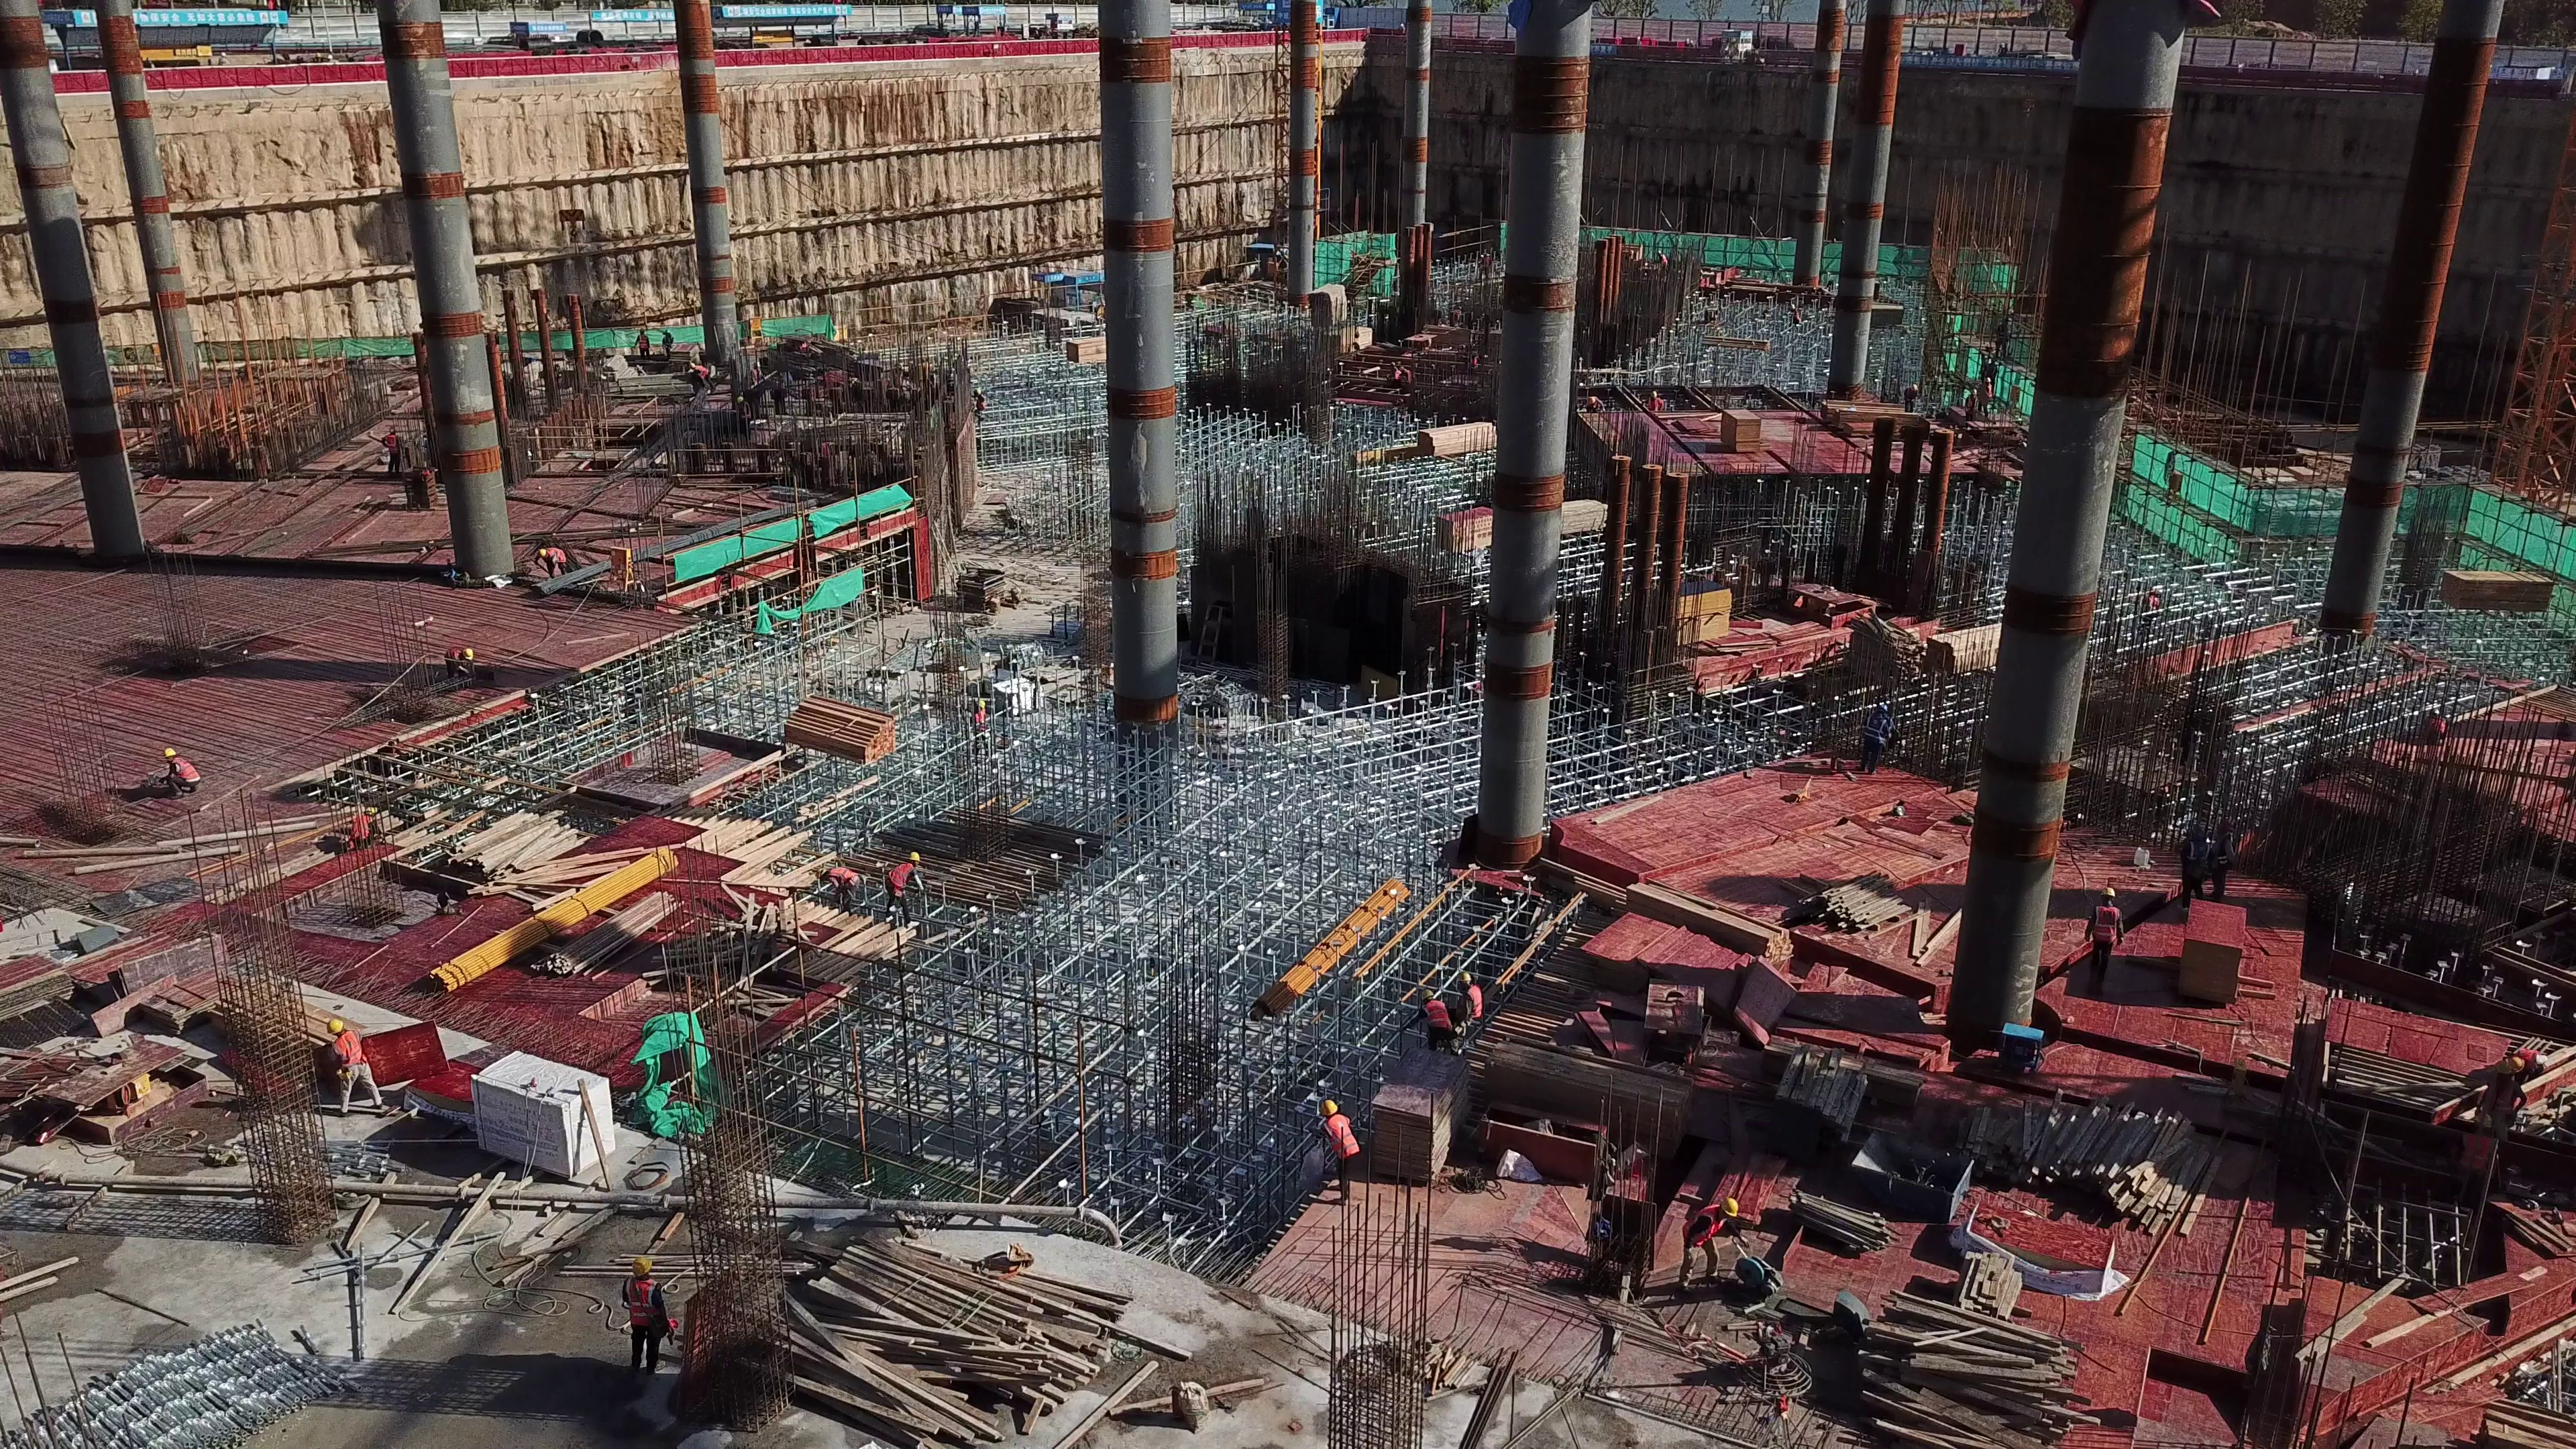board: (1507, 1039, 1682, 1138), (1593, 917, 1731, 1018), (1372, 1063, 1474, 1178), (82, 947, 225, 1019), (2177, 898, 2251, 1008), (1, 951, 78, 1017), (1436, 504, 1497, 556), (1723, 408, 1766, 451)
cutter: (1727, 1247, 1784, 1299)
ebox: (1995, 1022, 2049, 1075), (606, 543, 639, 593)
fence: (1902, 24, 2576, 97), (38, 40, 683, 91), (696, 19, 1397, 67), (1572, 17, 1825, 72), (1405, 2, 1510, 52)
helmet: (1713, 1193, 1746, 1217), (625, 1258, 653, 1277), (2098, 885, 2123, 904), (322, 1017, 345, 1032), (1319, 1098, 1338, 1113), (1414, 985, 1434, 999), (1456, 971, 1472, 985), (458, 649, 473, 661), (163, 747, 176, 758)
person: (319, 1020, 390, 1129), (610, 1253, 669, 1374), (1680, 1191, 1736, 1299), (2465, 1046, 2511, 1169), (1318, 1096, 1366, 1201), (2082, 888, 2121, 1010), (884, 854, 922, 940), (2177, 827, 2208, 910), (1410, 985, 1450, 1046), (815, 863, 862, 913), (1856, 705, 1888, 774), (158, 746, 196, 796), (2210, 822, 2237, 895), (1452, 974, 1484, 1035), (345, 813, 378, 857), (441, 647, 478, 679), (540, 547, 570, 580)
scaffold: (72, 1328, 332, 1449)
slogan: (113, 1, 280, 36)
vest: (1674, 1198, 1721, 1248), (620, 1281, 664, 1335), (326, 1030, 370, 1068), (1320, 1112, 1358, 1159), (2088, 904, 2121, 950), (878, 860, 915, 891), (1421, 1000, 1450, 1032), (1863, 712, 1887, 747), (826, 863, 864, 884), (1462, 988, 1483, 1021), (171, 757, 195, 786), (548, 548, 566, 569)
wood: (798, 1257, 1093, 1399), (1874, 1307, 2072, 1449), (1987, 1121, 2224, 1226), (1760, 1049, 1881, 1157), (420, 810, 568, 890), (1810, 873, 1950, 957), (780, 700, 906, 763), (1926, 614, 2002, 670), (1404, 423, 1495, 466)
